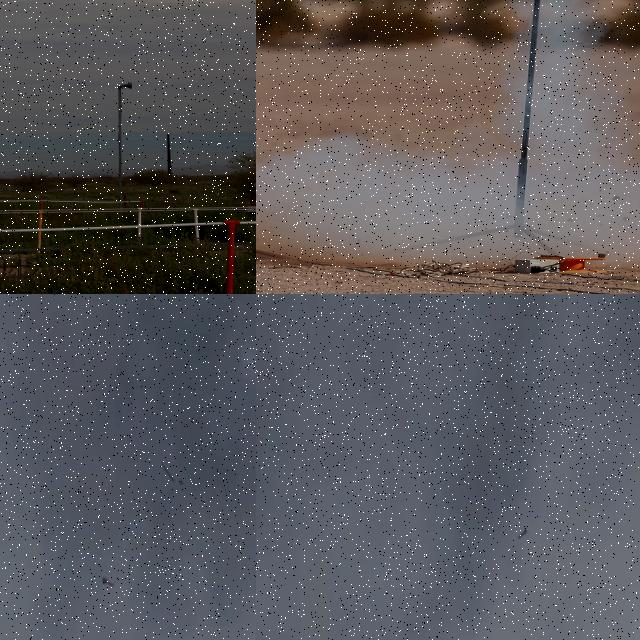Rocket: (517, 526, 527, 540), (102, 578, 114, 586)
